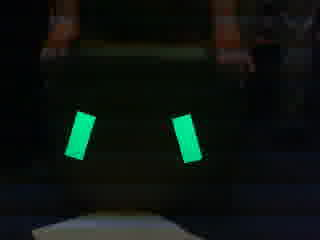target: (61, 110, 214, 163)
